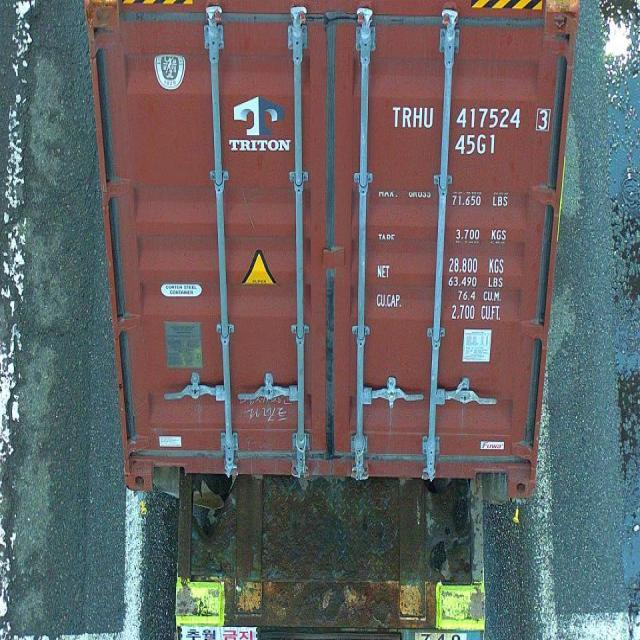ISO: (457, 134, 498, 154)
container_number: (395, 102, 552, 132)
